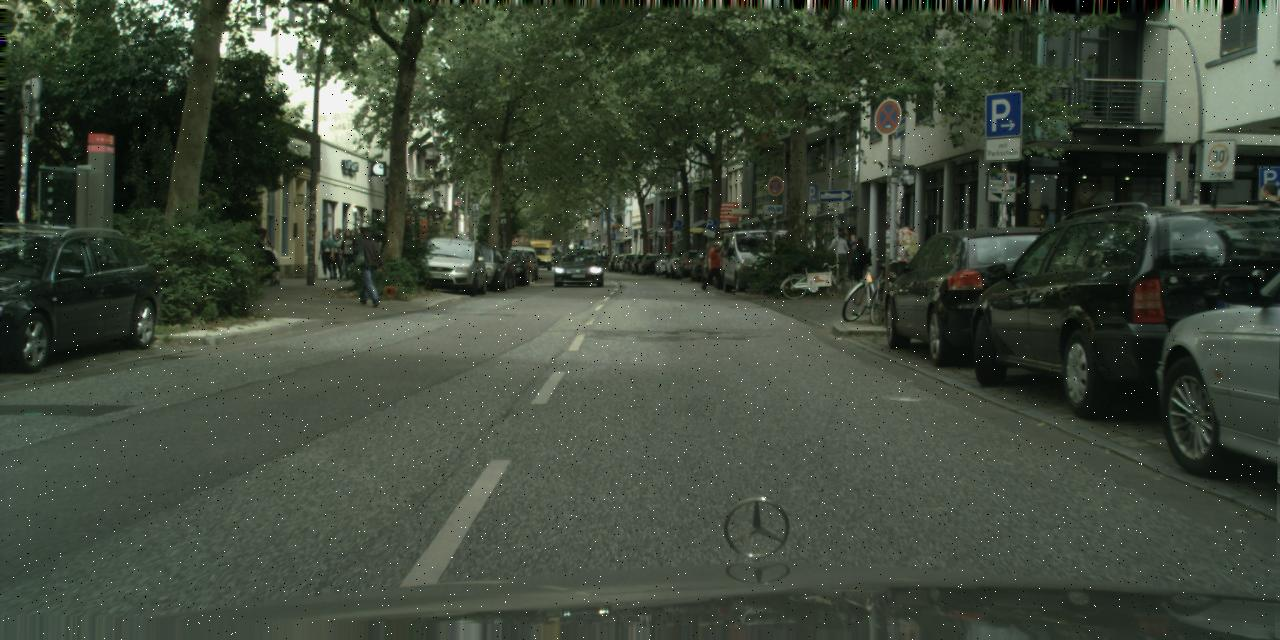ped: (1246, 182, 1278, 310), (350, 227, 381, 304), (245, 218, 271, 280), (328, 228, 348, 278), (317, 230, 337, 279), (338, 229, 358, 277), (704, 244, 724, 290), (851, 236, 869, 282), (839, 230, 856, 258), (851, 268, 856, 281), (832, 238, 834, 242), (852, 263, 854, 267), (832, 247, 834, 249)
